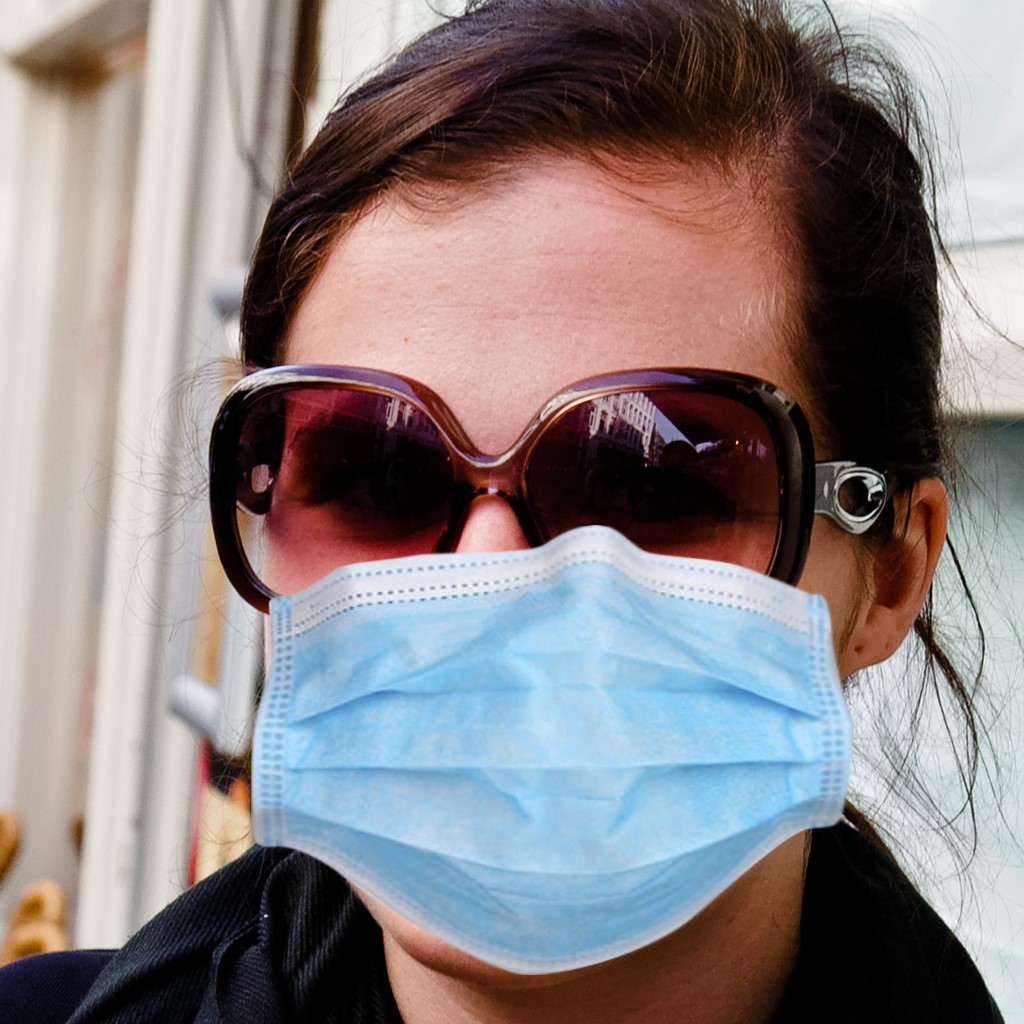con_mascara: (274, 155, 848, 956)
